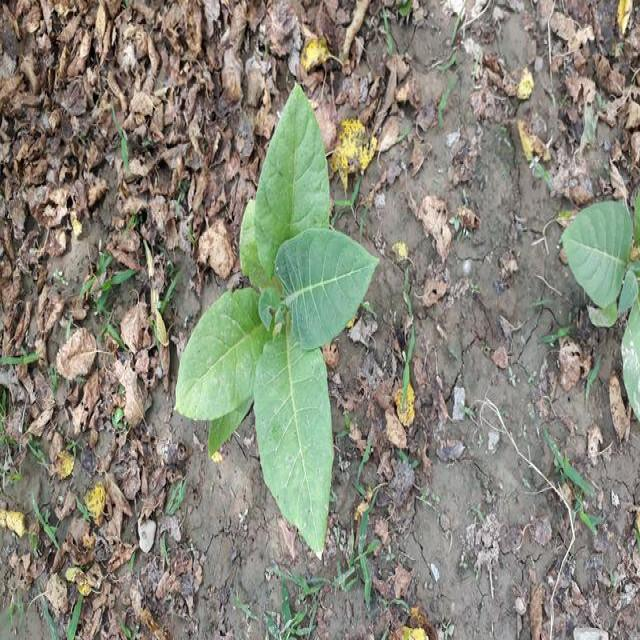crop: (182, 95, 372, 562), (561, 211, 640, 408)
